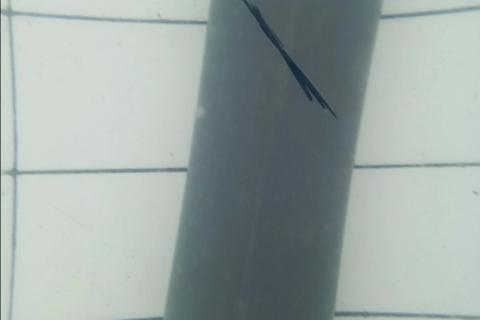keretakan: (240, 0, 340, 122)
